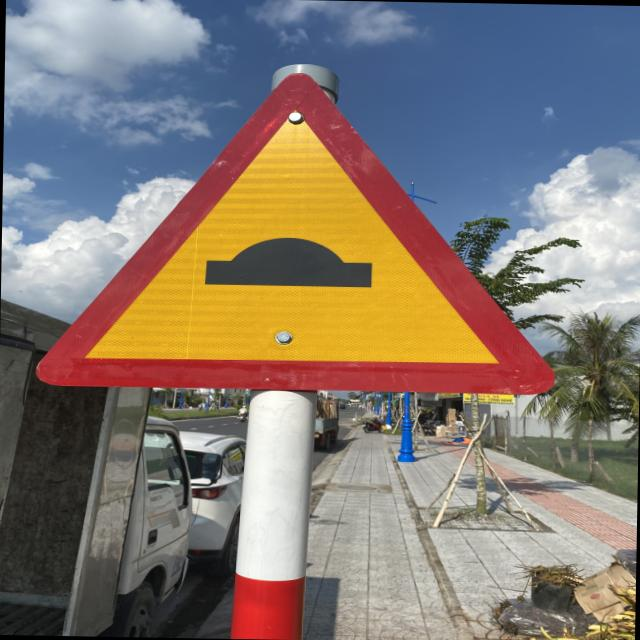Duong_Cong_Ben_Phai: (30, 65, 561, 394)
